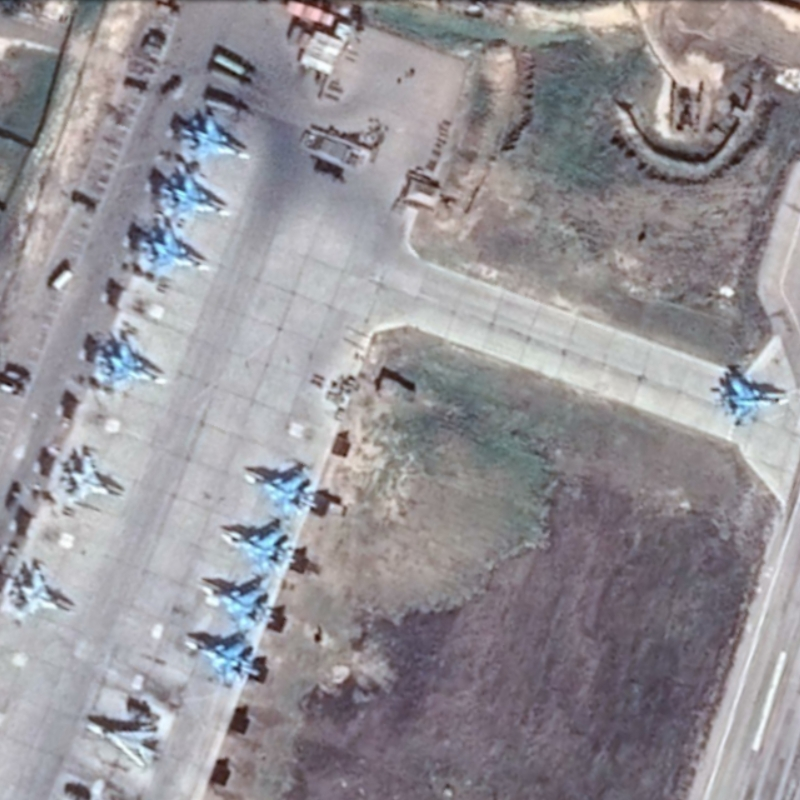A1: (5, 559, 74, 622), (60, 448, 125, 509)
A19: (84, 333, 171, 393), (713, 367, 794, 431), (150, 166, 233, 224), (134, 221, 212, 280), (174, 109, 252, 167), (181, 632, 263, 686), (239, 463, 319, 518), (193, 576, 273, 629), (216, 521, 293, 575)
A20: (81, 713, 162, 771)
